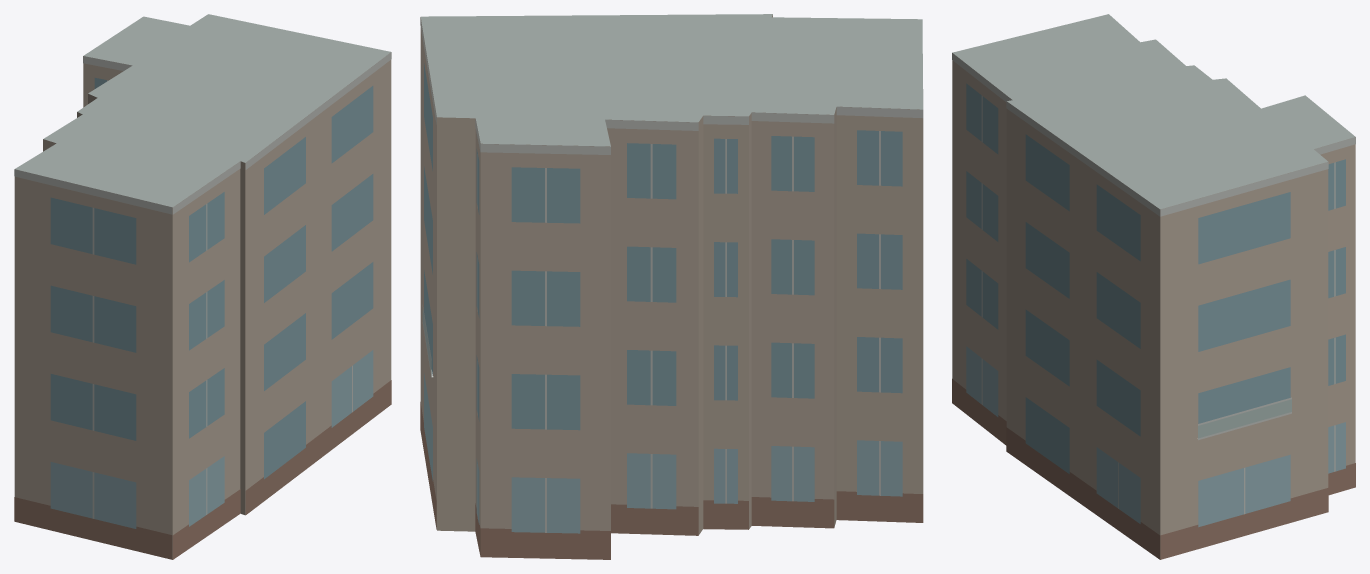
File: survey-upis-32503422.glb
The picture shows the model from 3 angles, left to right: view 1: azimuth 30°, elevation 25°; view 2: azimuth 150°, elevation 25°; view 3: azimuth 270°, elevation 25°; orthographic projection. The views are drawn at different scales.
Parts seen in each view (by area): view 1: survey-upis-32503422.tmp; view 2: survey-upis-32503422.tmp; view 3: survey-upis-32503422.tmp.
Part boxes in pixels (x1,y1,x2,y2): survey-upis-32503422.tmp: (14,14,391,559); survey-upis-32503422.tmp: (420,14,923,559); survey-upis-32503422.tmp: (952,14,1355,559).
Bounding box in the file's own units: 14 × 11.7 × 12.22.
